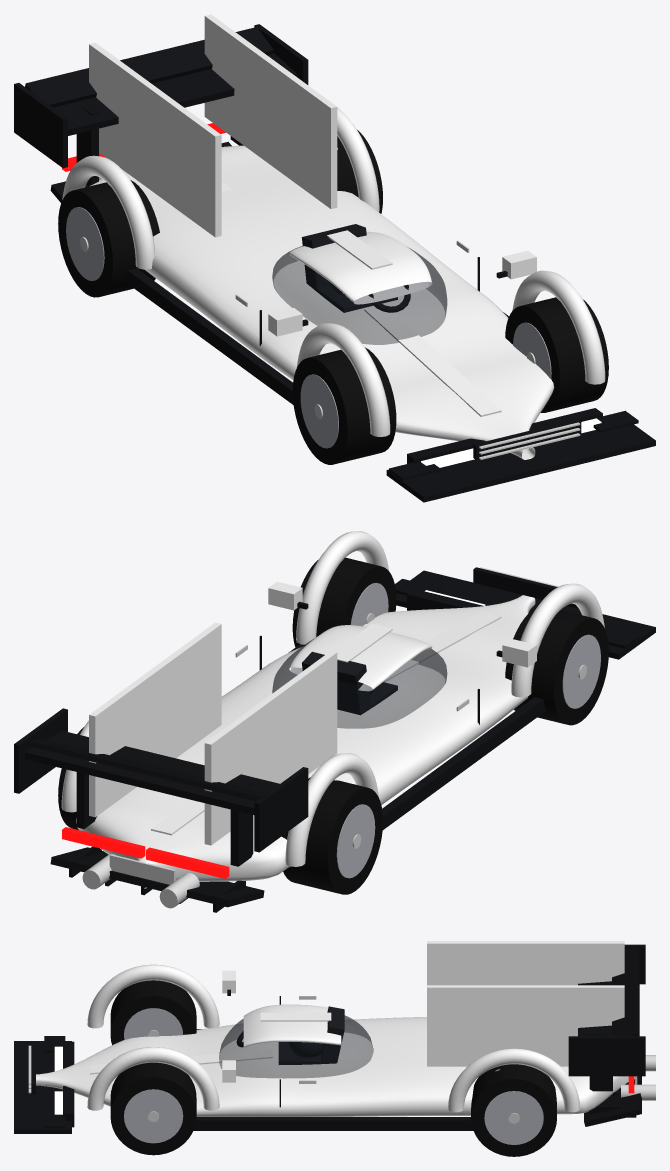
The model's file is car_endu.glb.
The picture shows the model from 3 angles, top to bottom: view 1: azimuth 30°, elevation 25°; view 2: azimuth 150°, elevation 25°; view 3: azimuth 270°, elevation 25°; orthographic projection. The views are drawn at different scales.
Visible parts, largest first — view 1: body, tire (×4), fin1, fin0, cabin, splitter, roof, rim (×3), wing_flap, skirtR, wing_main, flareR1.55 (+13 smaller); view 2: body, tire (×3), fin1, fin0, cabin, wing_main, rim (×3), skirtR, roof, flareL1.55, splitter, plate_end-1 (+21 smaller); view 3: body, fin1, tire (×3), fin0, rim (×3), cabin, skirtL, plate_end1, splitter, flareL-1.55, flareR1.55, flareL1.55 (+14 smaller).
Part boxes in pixels (x1=…): body: x1=89, y1=145, x2=554, y2=459; tire (×4): x1=58, y1=130, x2=608, y2=464; fin1: x1=204, y1=14, x2=337, y2=208; fin0: x1=89, y1=42, x2=221, y2=237; cabin: x1=272, y1=246, x2=447, y2=344; splitter: x1=386, y1=424, x2=655, y2=502; roof: x1=289, y1=231, x2=432, y2=304; rim (×3): x1=66, y1=207, x2=551, y2=448; wing_flap: x1=25, y1=27, x2=273, y2=107; skirtR: x1=125, y1=268, x2=293, y2=404; wing_main: x1=53, y1=53, x2=297, y2=135; flareR1.55: x1=296, y1=323, x2=390, y2=436; body: x1=76, y1=595, x2=535, y2=888; tire (×3): x1=281, y1=557, x2=608, y2=894; fin1: x1=89, y1=622, x2=221, y2=817; fin0: x1=204, y1=651, x2=337, y2=845; cabin: x1=272, y1=638, x2=447, y2=728; wing_main: x1=25, y1=730, x2=279, y2=814; rim (×3): x1=336, y1=583, x2=600, y2=878; skirtR: x1=382, y1=697, x2=546, y2=829; roof: x1=289, y1=625, x2=432, y2=691; flareL1.55: x1=296, y1=531, x2=388, y2=644; splitter: x1=396, y1=570, x2=655, y2=659; plate_end-1: x1=254, y1=767, x2=308, y2=852; body: x1=36, y1=1017, x2=634, y2=1116; fin1: x1=427, y1=985, x2=624, y2=1066; tire (×3): x1=110, y1=980, x2=556, y2=1156; fin0: x1=427, y1=941, x2=624, y2=985; rim (×3): x1=124, y1=1008, x2=543, y2=1144; cabin: x1=219, y1=1015, x2=373, y2=1078; skirtL: x1=193, y1=1117, x2=473, y2=1130; plate_end1: x1=568, y1=1036, x2=645, y2=1076; splitter: x1=14, y1=1041, x2=71, y2=1133; flareL-1.55: x1=448, y1=1048, x2=580, y2=1112; flareR1.55: x1=87, y1=964, x2=219, y2=1028; flareL1.55: x1=87, y1=1047, x2=219, y2=1110.
Bounding box in the file's own units: 2.13 × 1.34 × 5.52.
